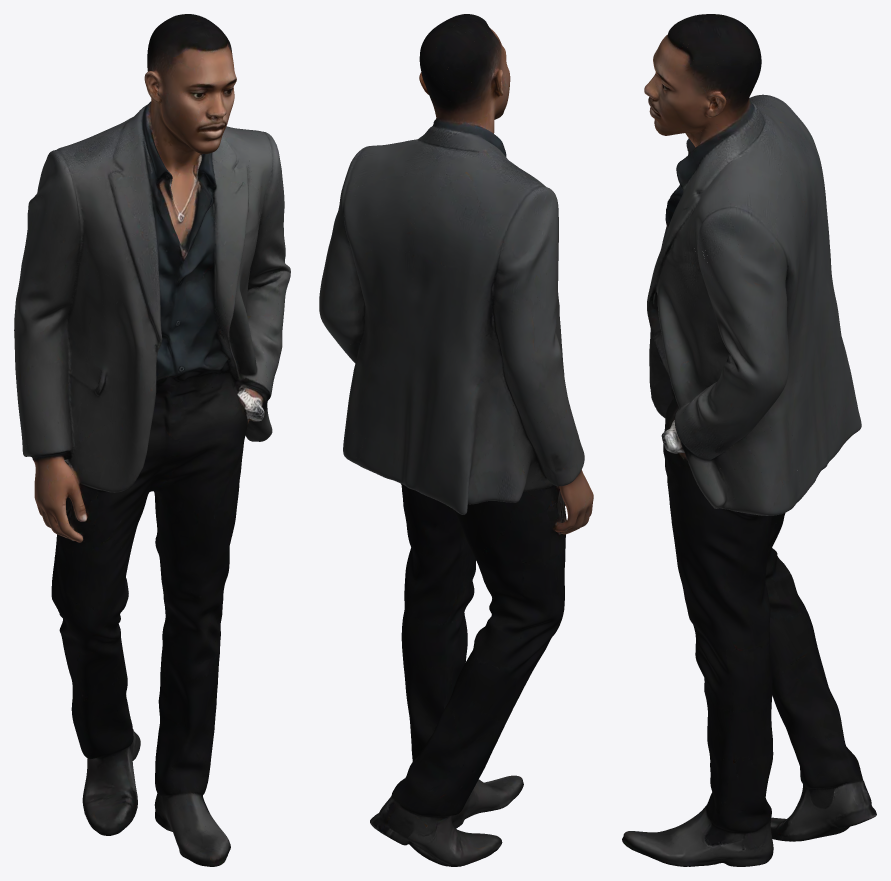
Rendered from urban_gentleman.glb.
The picture shows the model from 3 angles, left to right: view 1: azimuth 30°, elevation 25°; view 2: azimuth 150°, elevation 25°; view 3: azimuth 270°, elevation 25°; orthographic projection. The views are drawn at different scales.
Visible parts, largest first — view 1: Object_5, Object_6; view 2: Object_6, Object_5; view 3: Object_5, Object_6.
Boxes of the visible parts, left/top/right/bottom form: Object_5: left=15, top=14, right=284, bottom=866; Object_6: left=14, top=15, right=290, bottom=844; Object_6: left=337, top=15, right=593, bottom=866; Object_5: left=319, top=14, right=592, bottom=859; Object_5: left=622, top=14, right=841, bottom=865; Object_6: left=665, top=14, right=876, bottom=866.
Size of the model in its own units: 0.6337 by 1.9 by 0.5218.
1 material, 1 textured.
